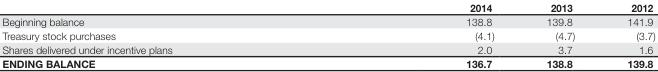table: (1, 0, 654, 68)
table column: (1, 0, 318, 68), (318, 0, 519, 68), (519, 0, 600, 68), (600, 0, 654, 68)
table column header: (1, 0, 654, 13)
table row: (1, 13, 654, 27), (1, 27, 654, 41), (1, 41, 654, 55), (1, 0, 654, 13), (1, 55, 654, 68)
